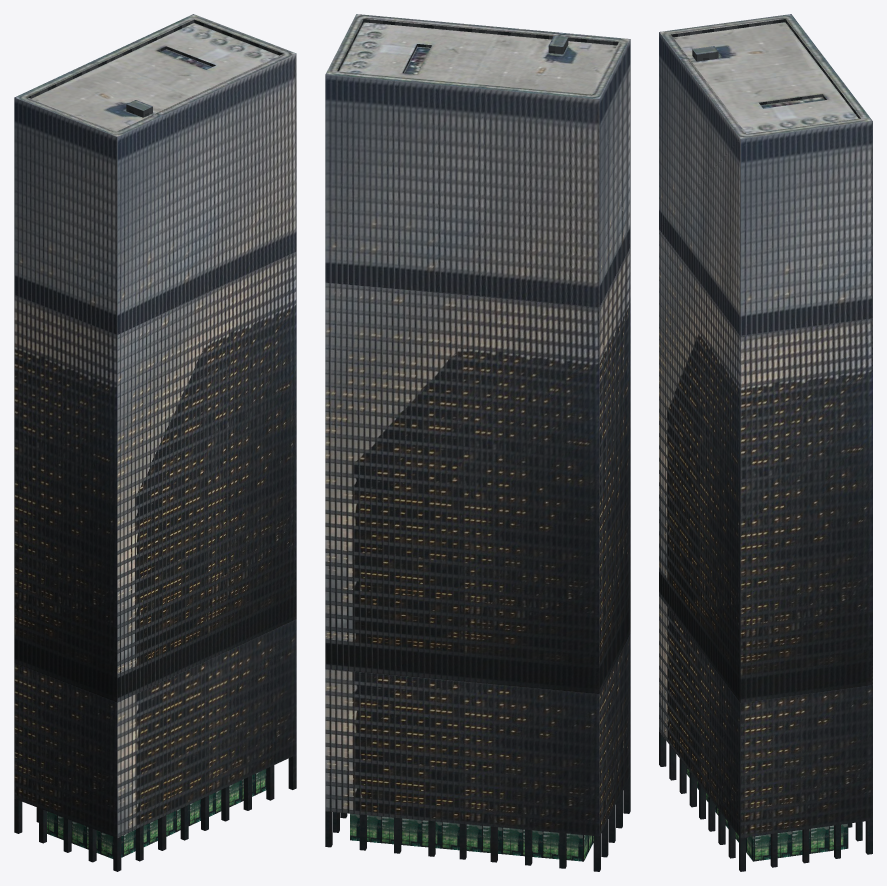
File: td-tower.dae
The picture shows the model from 3 angles, left to right: view 1: azimuth 30°, elevation 25°; view 2: azimuth 150°, elevation 25°; view 3: azimuth 270°, elevation 25°; orthographic projection. The views are drawn at different scales.
Visible parts, largest first — view 1: SketchUp (×7); view 2: SketchUp (×7); view 3: SketchUp (×7).
Part boxes in pixels (left/top/right/bottom): SketchUp (×7): left=14, top=14, right=296, bottom=871; SketchUp (×7): left=325, top=14, right=630, bottom=871; SketchUp (×7): left=659, top=14, right=872, bottom=871.
Bounding box in the file's own units: 3174 × 2292 × 8718.
17 materials, 17 textured.
